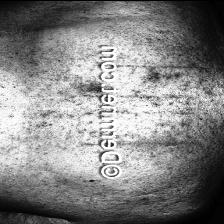Toxin: (121, 72, 196, 146)
